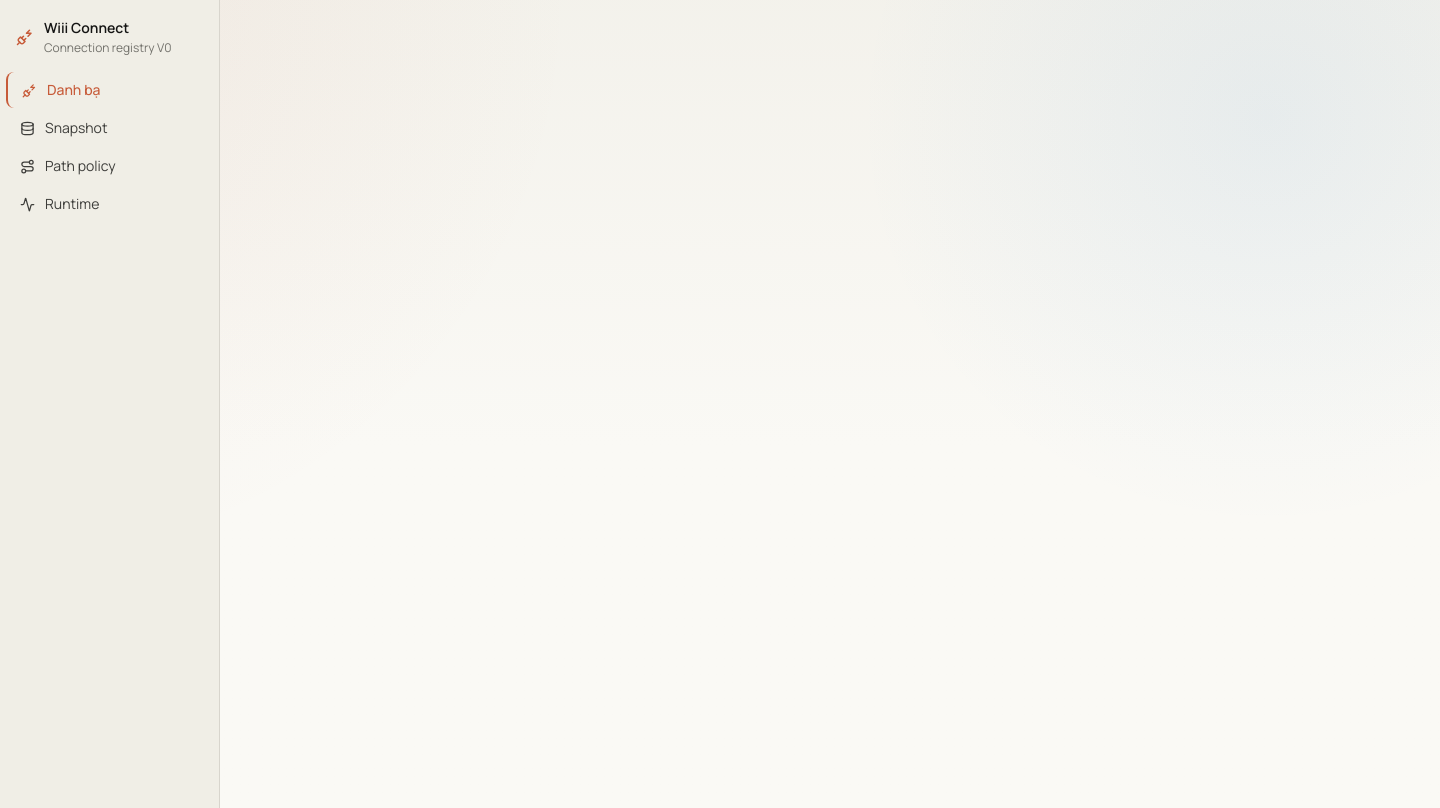
Test: WiiiConnectPage › shows aggregate runtime-flow doctor counts without raw ids
This screenshot has width=1440, height=808.
Click the button "Runtime": [110, 204] box left=8, top=186, right=211, bottom=222
(page scrolled)
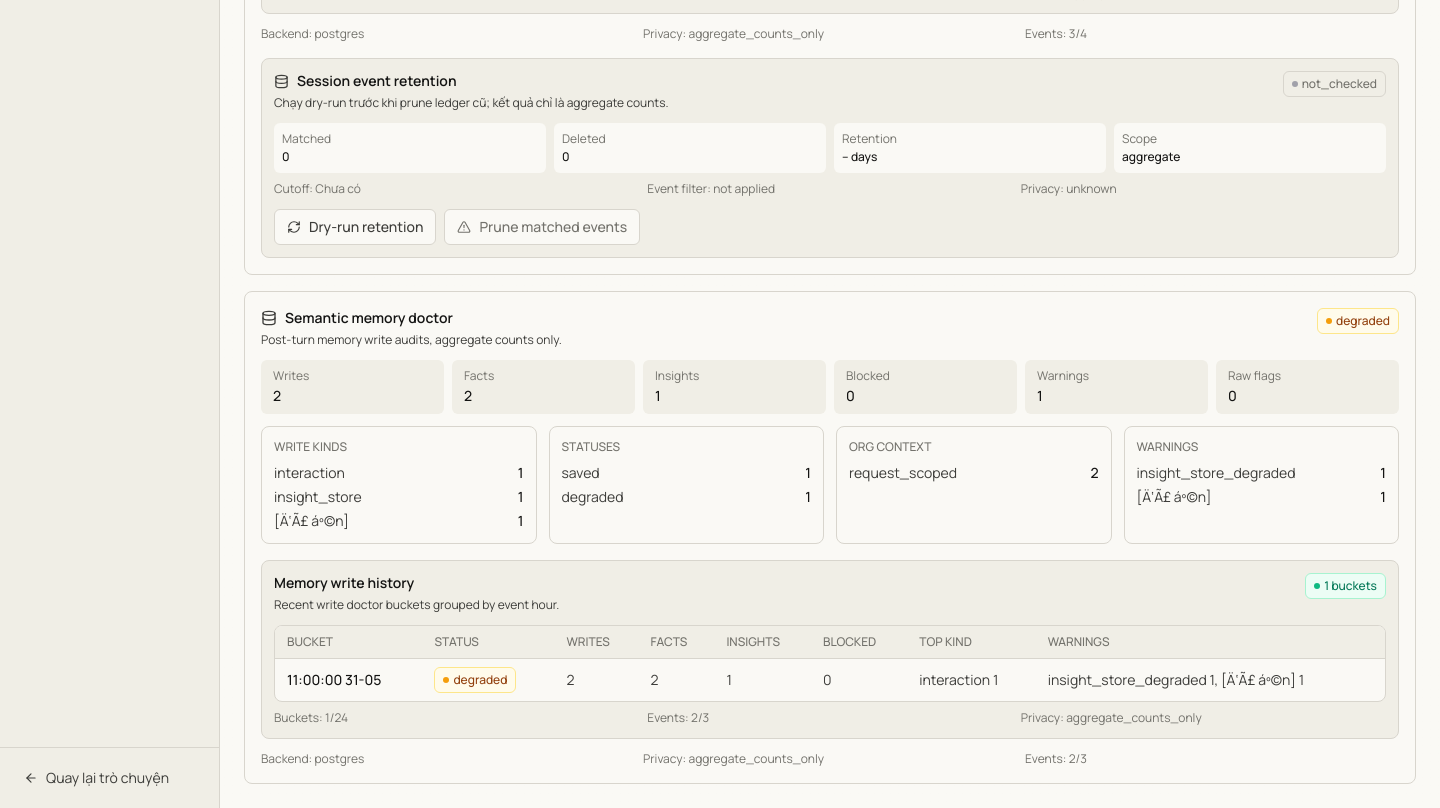
Result: the element with test id "wiii-connect-semantic-memory-doctor-panel" shows "Semantic memory doctor" at left=285, top=308, right=453, bottom=327
Result: the element with test id "wiii-connect-semantic-memory-doctor-panel" shows "Memory write history" at left=274, top=573, right=414, bottom=592
Result: the element with test id "wiii-connect-semantic-memory-doctor-panel" shows "degraded" at left=1336, top=312, right=1390, bottom=329
